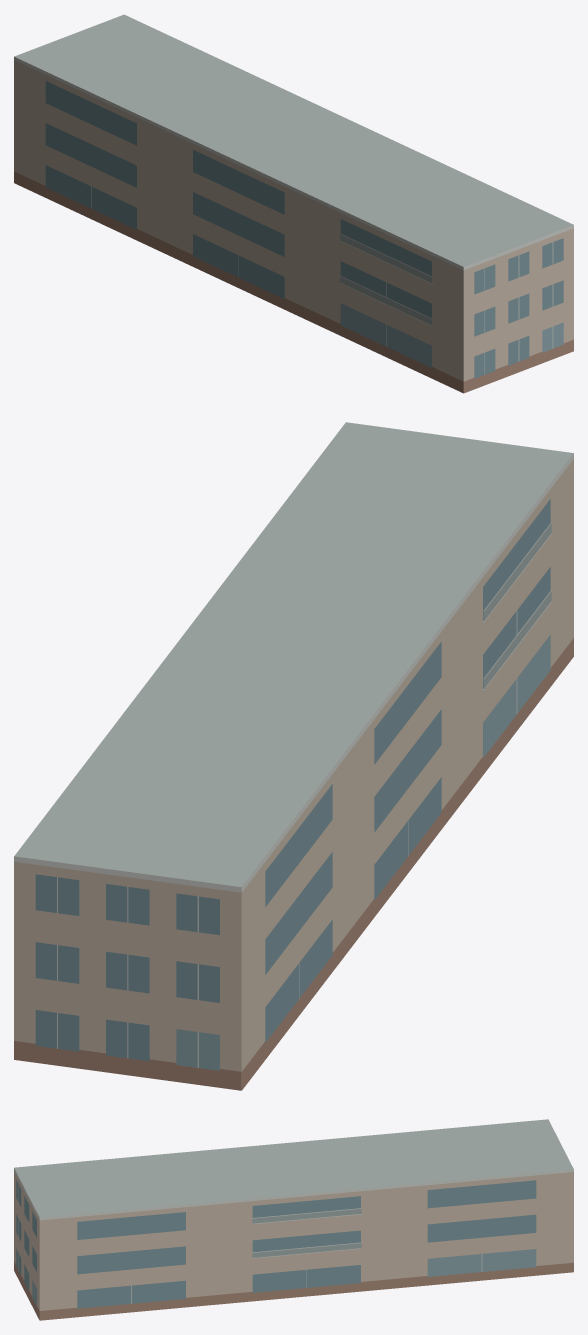
Rendered from survey-upis-32984547.glb.
3 renders of one model, top to bottom at view 1: azimuth 30°, elevation 25°; view 2: azimuth 150°, elevation 25°; view 3: azimuth 270°, elevation 25°, orthographic. The views are drawn at different scales.
Visible parts, largest first — view 1: survey-upis-32984547.tmp; view 2: survey-upis-32984547.tmp; view 3: survey-upis-32984547.tmp.
Part boxes in pixels (bbox=[...]): survey-upis-32984547.tmp: bbox=[14, 14, 573, 393]; survey-upis-32984547.tmp: bbox=[14, 422, 573, 1090]; survey-upis-32984547.tmp: bbox=[14, 1119, 573, 1320].
Bounding box in the file's own units: 18.76 × 9.15 × 45.09.
